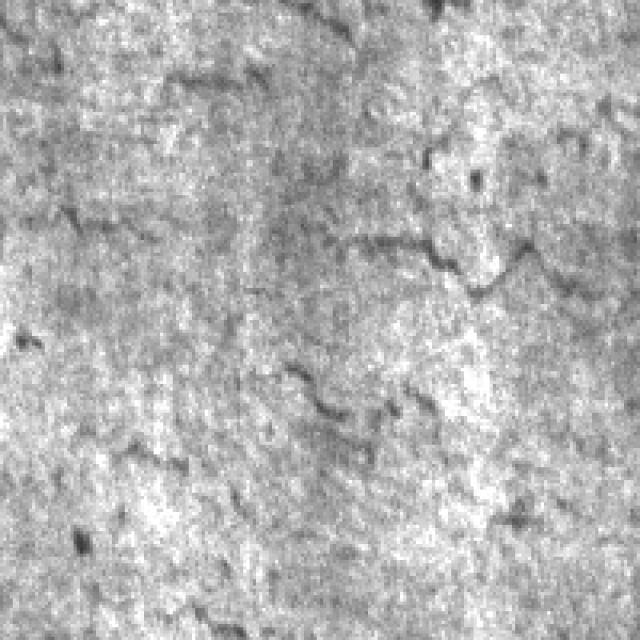crazing: (25, 348, 618, 538), (288, 58, 640, 304), (29, 0, 272, 243)
